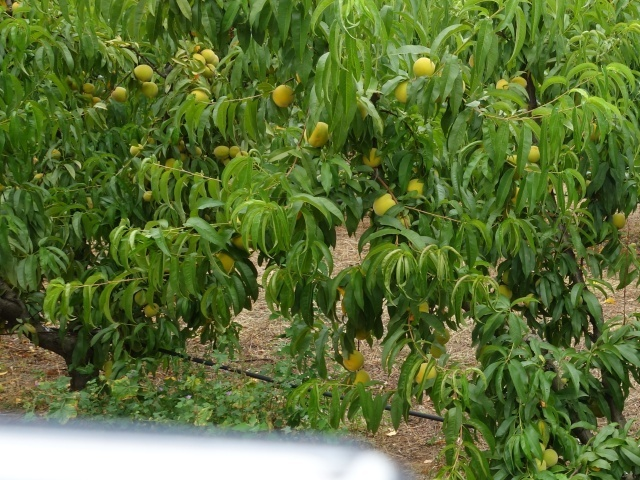peach: (267, 82, 299, 113), (368, 188, 399, 220), (302, 120, 334, 150), (389, 80, 418, 107), (411, 54, 439, 81), (339, 347, 367, 374), (411, 359, 438, 387), (403, 175, 430, 202), (347, 362, 375, 386), (361, 146, 386, 171), (189, 84, 217, 106), (132, 61, 158, 84), (139, 78, 162, 100), (607, 210, 630, 231), (542, 447, 562, 470), (506, 72, 530, 91), (491, 75, 512, 96), (524, 145, 546, 165), (110, 84, 132, 104), (432, 326, 452, 347), (143, 300, 163, 320), (529, 453, 548, 474), (201, 60, 220, 81), (213, 142, 231, 164), (425, 341, 447, 359), (495, 281, 514, 301), (498, 268, 516, 287), (197, 47, 218, 63)
